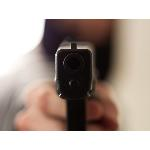Pistol: (54, 35, 98, 131)
